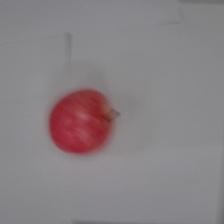red: (50, 89, 117, 154)
